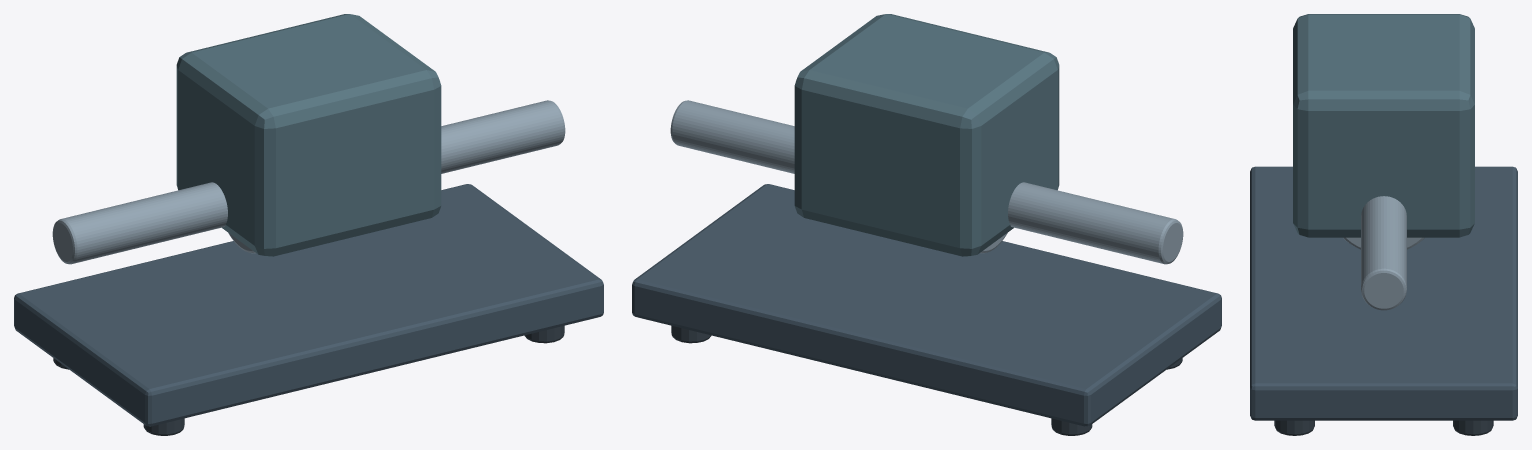
File: flexible-coupling-lod0.glb
The picture shows the model from 3 angles, left to right: view 1: azimuth 30°, elevation 25°; view 2: azimuth 150°, elevation 25°; view 3: azimuth 270°, elevation 25°; orthographic projection.
Parts seen in each view (by area): view 1: drive_base, coupling_guard, input_shaft, output_shaft; view 2: drive_base, coupling_guard, input_shaft, output_shaft; view 3: drive_base, coupling_guard, output_shaft, base_mount_1.6999999999999997_0.7000000000000001, base_mount_1.6999999999999997_-0.7000000000000001, coupling_output.
Part boxes in pixels (x1,y1,x2,y2): drive_base: [14, 184, 603, 426]; coupling_guard: [176, 14, 441, 256]; input_shaft: [52, 182, 227, 264]; output_shaft: [441, 100, 565, 173]; drive_base: [632, 184, 1221, 426]; coupling_guard: [794, 14, 1059, 256]; input_shaft: [1008, 182, 1183, 264]; output_shaft: [670, 100, 794, 173]; drive_base: [1250, 166, 1517, 420]; coupling_guard: [1293, 14, 1474, 237]; output_shaft: [1361, 196, 1406, 310]; base_mount_1.6999999999999997_0.7000000000000001: [1453, 420, 1493, 435]; base_mount_1.6999999999999997_-0.7000000000000001: [1274, 420, 1314, 435]; coupling_output: [1343, 237, 1424, 249].
Size of the model in its own units: 4.4 by 2.46 by 2.1.
